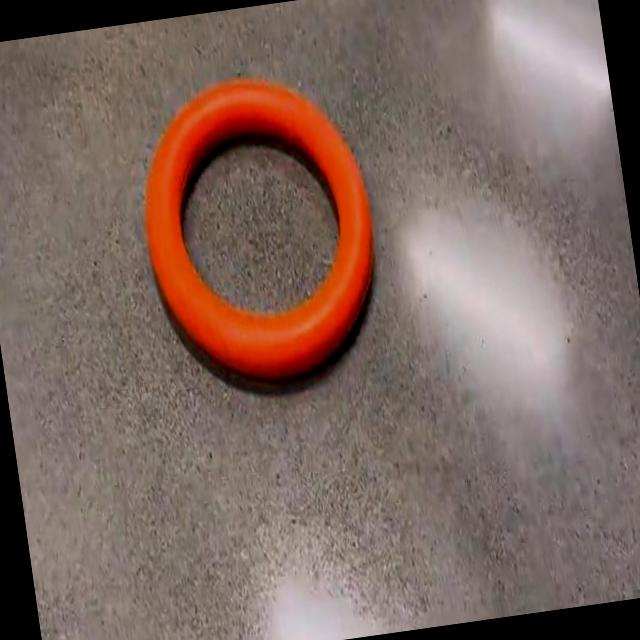note: (145, 81, 372, 379)
